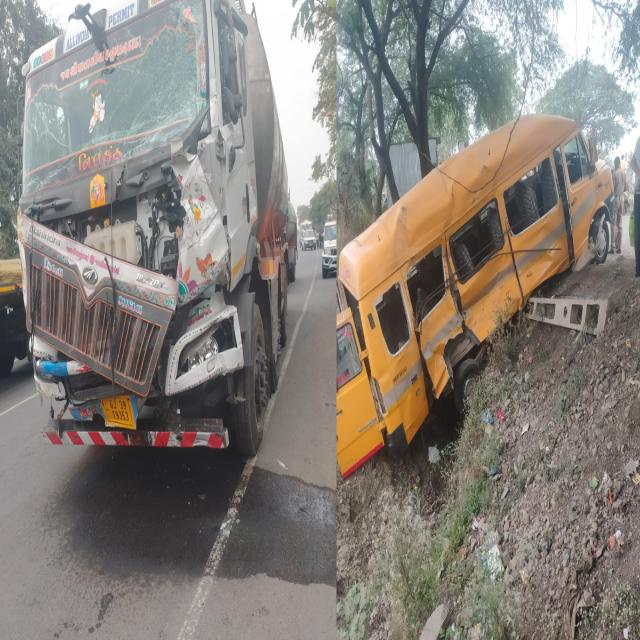accident: (18, 0, 298, 453), (336, 116, 612, 478), (21, 216, 80, 353)
